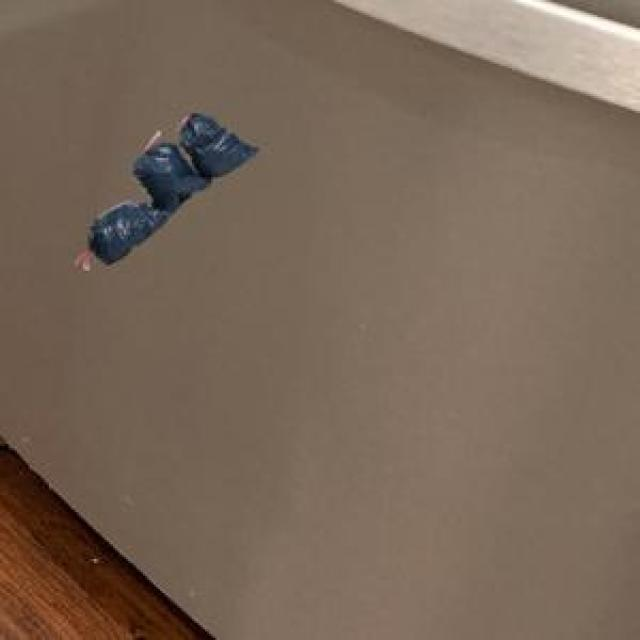miscellaneous trash: (85, 111, 256, 260)
